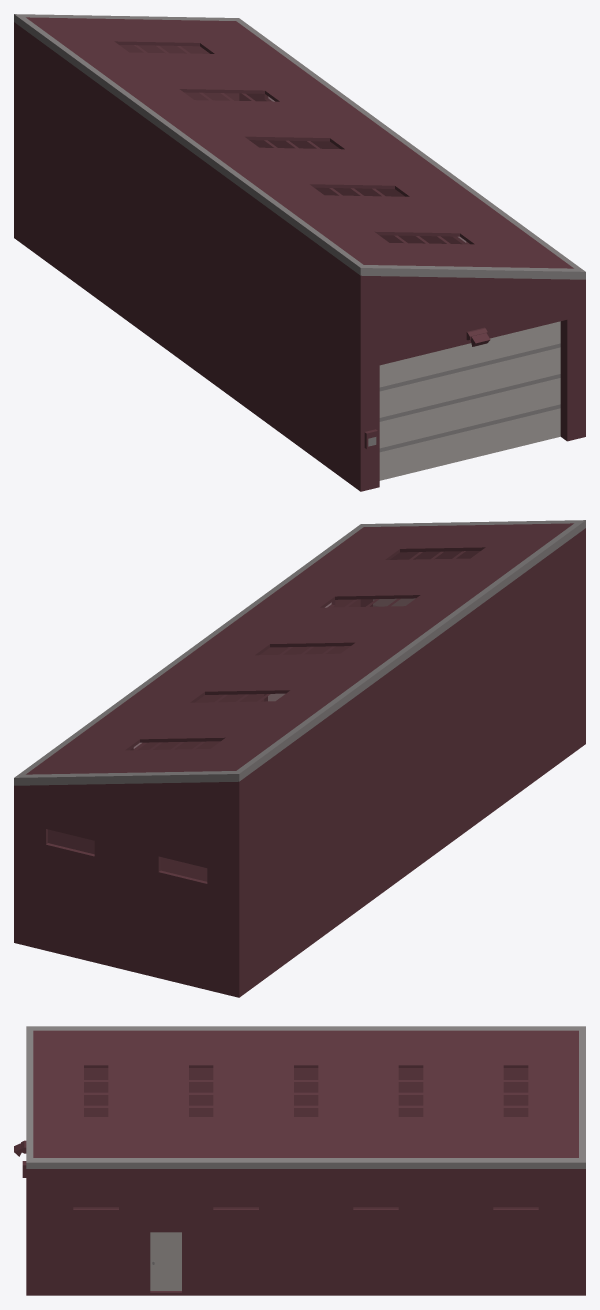
The model's file is industry-storage.fbx.
3 views of the same model, one above another, from view 1: azimuth 30°, elevation 25°; view 2: azimuth 150°, elevation 25°; view 3: azimuth 270°, elevation 25° (orthographic). The views are drawn at different scales.
Visible parts, largest first — view 1: industry-storage; view 2: industry-storage; view 3: industry-storage.
Part boxes in pixels (bbox=[...]): industry-storage: bbox=[14, 14, 585, 491]; industry-storage: bbox=[14, 520, 585, 997]; industry-storage: bbox=[14, 1026, 585, 1295].
Bounding box in the file's own units: 6 × 5.7 × 16.35.
